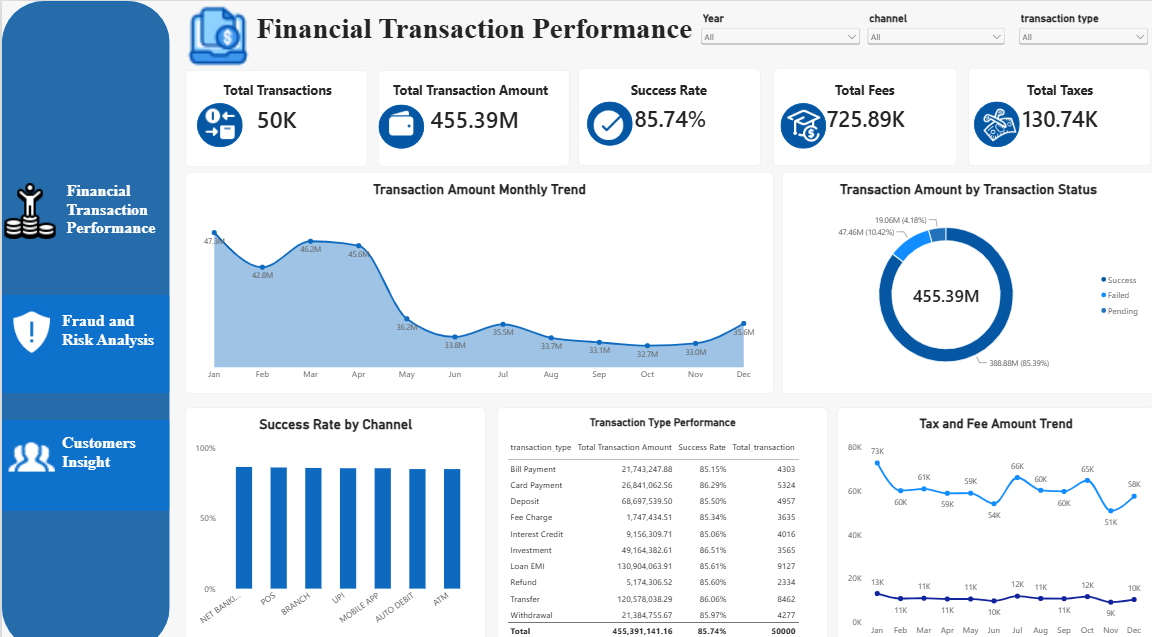

The dashboard page shown, as its layout file describes it:
{"tool":"powerbi","page":{"name":"Financial Transaction Performance","canvas":[1920,1080],"ordinal":0},"visuals":[{"type":"shape","box":[0,0,279.3,1080.7],"z":0},{"type":"cardVisual","fields":{"Data":["finance customer_cleaned.Total_transaction"]},"box":[304.8,114.3,304.8,161.9],"z":1000},{"type":"cardVisual","fields":{"Data":["finance customer_cleaned.Total Transaction Amount"]},"box":[628.6,114.3,319,161.9],"z":2000},{"type":"cardVisual","fields":{"Data":["finance customer_cleaned.Success Rate"]},"box":[960,112.5,305,162.5],"z":3000},{"type":"cardVisual","fields":{"Data":["finance customer_cleaned.Total Fee Amount"]},"box":[1285,112.5,307.5,162.5],"z":4000},{"type":"stackedAreaChart","title":"Transaction Amount Monthly Trend","fields":{"Category":["finance finance_transaction_cleaned.Month Short"],"Y":["Sum(finance finance_transaction_cleaned.amount)"]},"box":[305.4,283.9,980.6,369.8],"z":5000},{"type":"donutChart","title":"Transaction Amount by Transaction Status","fields":{"Category":["finance finance_transaction_cleaned.transaction_status"],"Y":["Sum(finance finance_transaction_cleaned.amount)"]},"box":[1300.3,283.9,620.3,369.8],"z":6000},{"type":"columnChart","title":"Success Rate by Channel","fields":{"Category":["finance finance_transaction_cleaned.channel"],"Y":["finance finance_transaction_cleaned.Success Rate"]},"box":[305.4,677.6,501,403.2],"z":7000},{"type":"tableEx","title":"Transaction Type Performance","fields":{"Values":["finance finance_transaction_cleaned.transaction_type","finance finance_transaction_cleaned.Total Transaction Amount","finance finance_transaction_cleaned.Success Rate","finance finance_transaction_cleaned.Total_transaction"]},"box":[824.2,677.4,551.1,403.2],"z":8000},{"type":"lineChart","title":"Tax and Fee Amount Trend","fields":{"Category":["finance customer_cleaned.Month Short"],"Y":["Sum(finance finance_transaction_cleaned.fee_amount)","Sum(finance finance_transaction_cleaned.tax_amount)"]},"box":[1393.4,677.6,527.3,403.2],"z":9000},{"type":"cardVisual","fields":{"Data":["finance customer_cleaned.Total Tax Amount"]},"box":[1610,112.5,305,162.5],"z":10000},{"type":"slicer","fields":{"Values":["finance finance_transaction_cleaned.transaction_date.Variation.Date Hierarchy.Year"]},"box":[1160.5,16.6,274.7,71.1],"z":11000},{"type":"textbox","box":[400.3,16.6,760.3,94.7],"z":12000},{"type":"textbox","box":[322.6,132.1,273.6,35.8],"z":13000},{"type":"textbox","box":[645.3,132.1,271.7,35.8],"z":14000},{"type":"textbox","box":[973.6,132.1,277.4,35.8],"z":15000},{"type":"textbox","box":[1300,132.1,275.5,35.8],"z":16000},{"type":"textbox","box":[1628.3,132.1,271.7,35.8],"z":17000},{"type":"slicer","fields":{"Values":["finance finance_transaction_cleaned.channel"]},"box":[1437.7,16.6,238.5,70.9],"z":18000},{"type":"shape","box":[323.8,169,76.2,73.8],"z":19000},{"type":"shape","box":[1619,166.7,76.2,76.2],"z":20000},{"type":"shape","box":[1297.6,169,76.2,76.2],"z":21000},{"type":"shape","box":[973.8,166.7,76.2,73.8],"z":22000},{"type":"shape","box":[628.6,171.4,76.2,73.8],"z":23000},{"type":"slicer","fields":{"Values":["finance finance_transaction_cleaned.transaction_type"]},"box":[1691.1,16.6,225,71.1],"z":24000},{"type":"actionButton","title":"F","box":[0,283.6,279.3,161.1],"z":25000},{"type":"actionButton","box":[0,698.3,279.3,152.5],"z":26000},{"type":"actionButton","box":[0,489.9,279.3,163.3],"z":27000},{"type":"textbox","box":[107.4,300.6,171.8,100.2],"z":28000},{"type":"image","box":[322.1,176.6,78.7,52.5],"z":29000},{"type":"image","box":[627.5,178.9,76.3,47.7],"z":29001},{"type":"image","box":[973.5,176.6,76.3,59.6],"z":29002},{"type":"image","box":[1286,176.6,102.6,59.6],"z":29003},{"type":"image","box":[1620,171.8,83.5,64.4],"z":29004},{"type":"image","box":[291.1,0,140.8,107.4],"z":29005},{"type":"image","box":[0,300.6,93.1,100.2],"z":29006},{"type":"image","box":[8.6,517.8,83.5,69.2],"z":29007},{"type":"image","box":[8.6,719.8,83.8,77.3],"z":29008},{"type":"textbox","box":[101,517.8,178.3,88.1],"z":29009},{"type":"textbox","box":[101,719.8,178.3,77.3],"z":29010}]}

Visuals, with their boxes in screenshot pixels (x1, y1, x2, y2), scaled from the page's 1920x1080 canvas onto the 1152x637 screenshot:
shape: [x1=0, y1=0, x2=168, y2=636]
cardVisual - finance customer_cleaned.Total_transaction: [x1=183, y1=67, x2=366, y2=163]
cardVisual - finance customer_cleaned.Total Transaction Amount: [x1=377, y1=67, x2=569, y2=163]
cardVisual - finance customer_cleaned.Success Rate: [x1=576, y1=66, x2=759, y2=162]
cardVisual - finance customer_cleaned.Total Fee Amount: [x1=771, y1=66, x2=956, y2=162]
"Transaction Amount Monthly Trend" stackedAreaChart: [x1=183, y1=167, x2=772, y2=386]
"Transaction Amount by Transaction Status" donutChart: [x1=780, y1=167, x2=1151, y2=386]
"Success Rate by Channel" columnChart: [x1=183, y1=400, x2=484, y2=636]
"Transaction Type Performance" tableEx: [x1=495, y1=400, x2=825, y2=636]
"Tax and Fee Amount Trend" lineChart: [x1=836, y1=400, x2=1151, y2=636]
cardVisual - finance customer_cleaned.Total Tax Amount: [x1=966, y1=66, x2=1149, y2=162]
slicer - finance finance_transaction_cleaned.transaction_date.Variation.Date Hierarchy.Year: [x1=696, y1=10, x2=861, y2=52]
textbox: [x1=240, y1=10, x2=696, y2=66]
textbox: [x1=194, y1=78, x2=358, y2=99]
textbox: [x1=387, y1=78, x2=550, y2=99]
textbox: [x1=584, y1=78, x2=751, y2=99]
textbox: [x1=780, y1=78, x2=945, y2=99]
textbox: [x1=977, y1=78, x2=1140, y2=99]
slicer - finance finance_transaction_cleaned.channel: [x1=863, y1=10, x2=1006, y2=52]
shape: [x1=194, y1=100, x2=240, y2=143]
shape: [x1=971, y1=98, x2=1017, y2=143]
shape: [x1=779, y1=100, x2=824, y2=145]
shape: [x1=584, y1=98, x2=630, y2=142]
shape: [x1=377, y1=101, x2=423, y2=145]
slicer - finance finance_transaction_cleaned.transaction_type: [x1=1015, y1=10, x2=1150, y2=52]
"F" actionButton: [x1=0, y1=167, x2=168, y2=262]
actionButton: [x1=0, y1=412, x2=168, y2=502]
actionButton: [x1=0, y1=289, x2=168, y2=385]
textbox: [x1=64, y1=177, x2=168, y2=236]
image: [x1=193, y1=104, x2=240, y2=135]
image: [x1=376, y1=106, x2=422, y2=134]
image: [x1=584, y1=104, x2=630, y2=139]
image: [x1=772, y1=104, x2=833, y2=139]
image: [x1=972, y1=101, x2=1022, y2=139]
image: [x1=175, y1=0, x2=259, y2=63]
image: [x1=0, y1=177, x2=56, y2=236]
image: [x1=5, y1=305, x2=55, y2=346]
image: [x1=5, y1=425, x2=55, y2=470]
textbox: [x1=61, y1=305, x2=168, y2=357]
textbox: [x1=61, y1=425, x2=168, y2=470]
